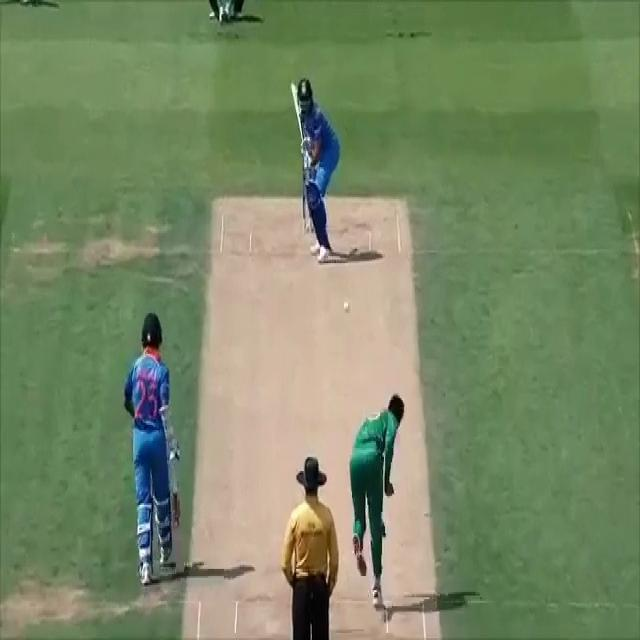ball: (343, 301, 351, 313)
